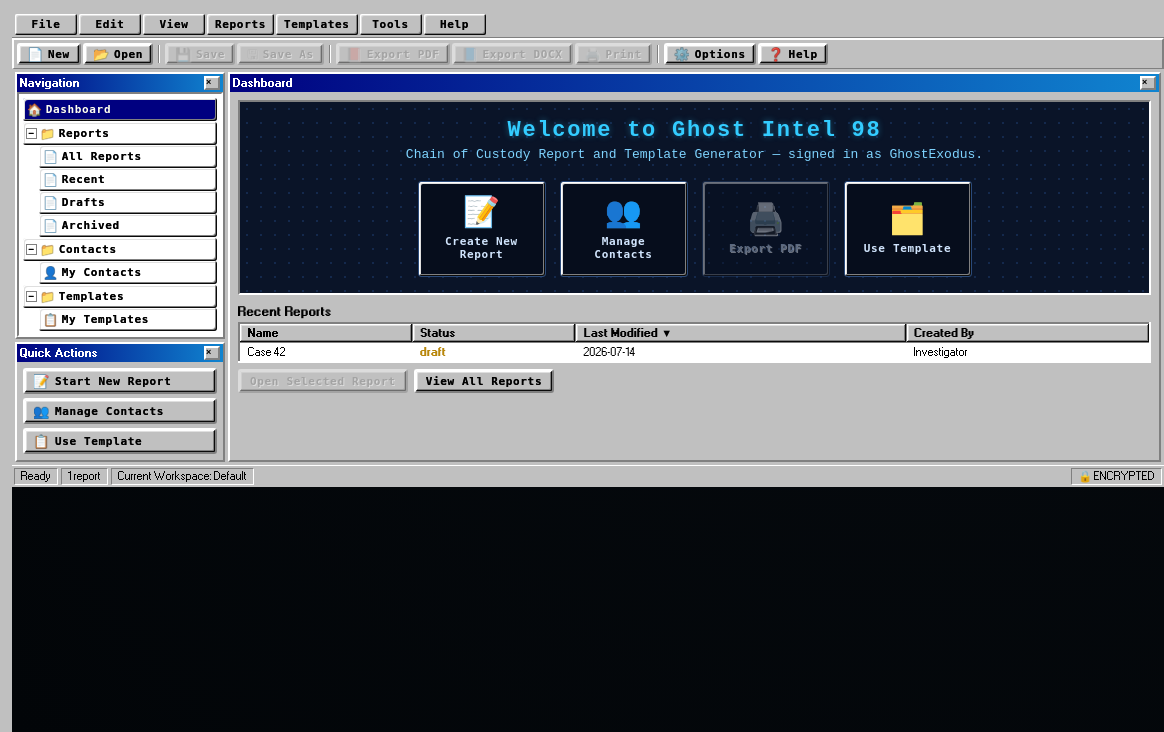
Test: ReportsModule shell (Task 6) › clears the dashboard selection when the selected report is deleted (no dead Export/Print tile)
Click the row "Case 42 draft 2026-07-14 Investigator" at x=694, y=352, box x1=239 y1=343 x2=1150 y2=362
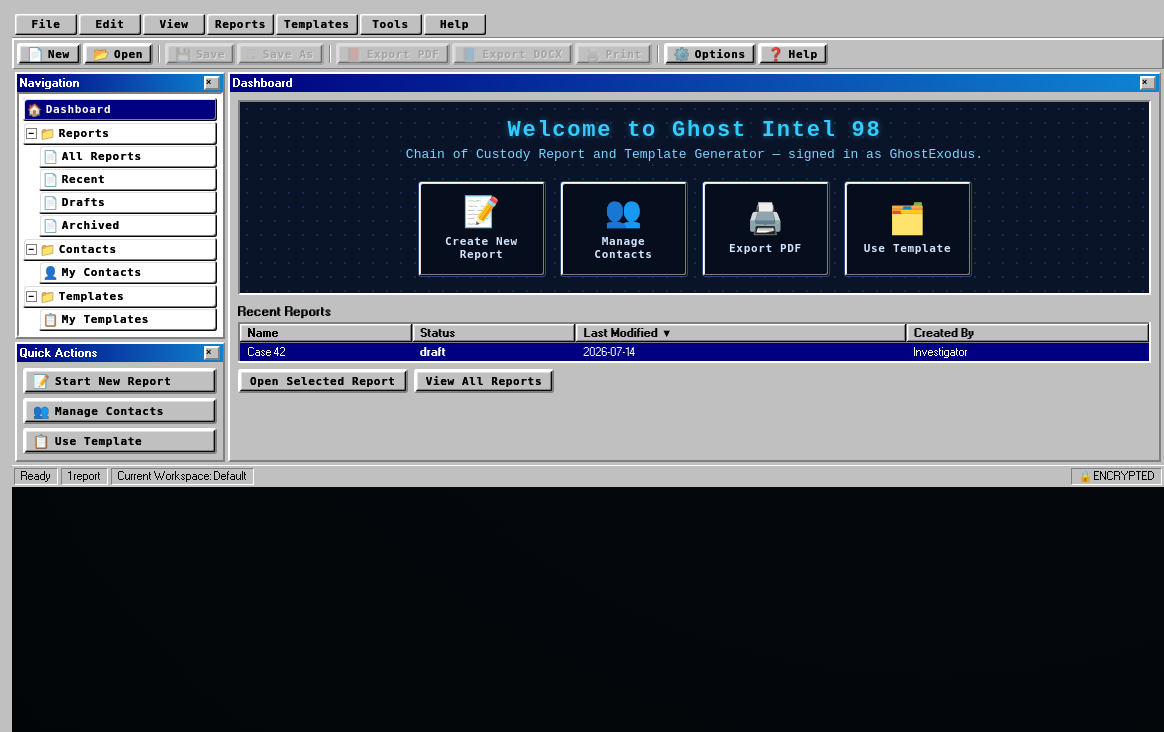
Now the button with class "ga98-report-tile" showing "🖨️ Export PDF" is enabled, box x1=702 y1=181 x2=830 y2=277
Right-click the row "Case 42 draft 2026-07-14 Investigator" at x=694, y=352, box x1=239 y1=343 x2=1150 y2=362
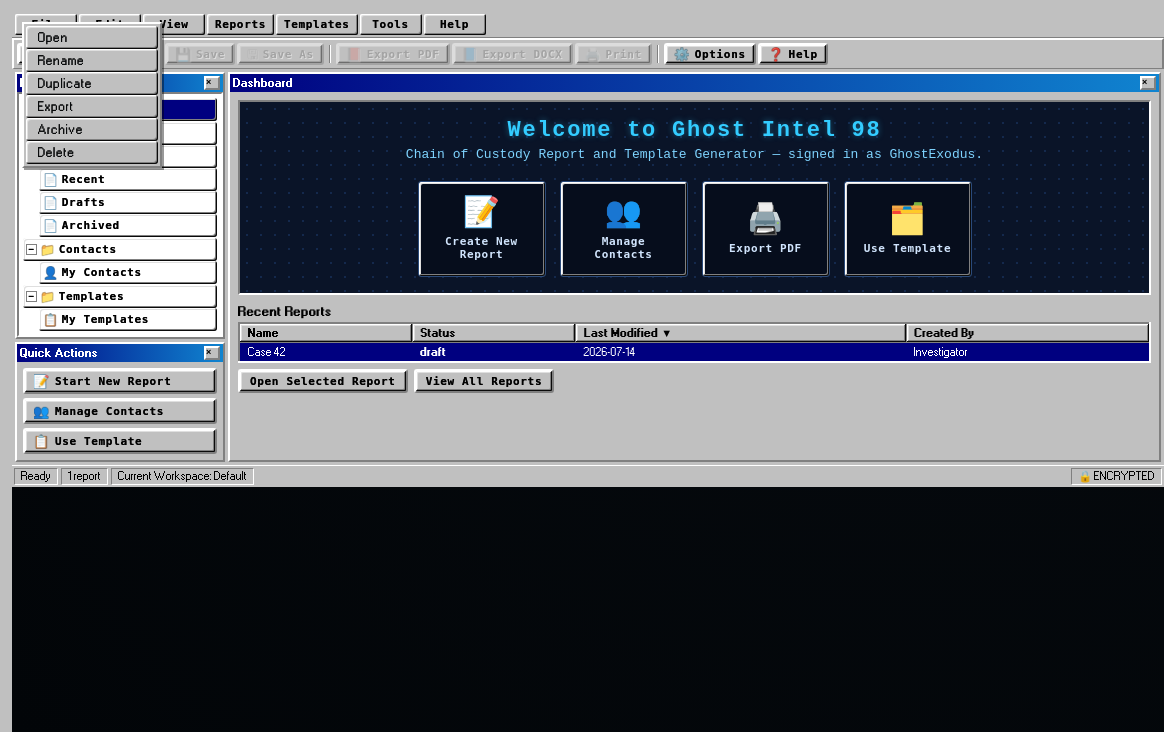
Now the button with class "ga98-context-menu-item" showing "Delete" is shown
Click the button with class "ga98-context-menu-item" showing "Delete" at x=92, y=152, box x1=26 y1=141 x2=158 y2=164
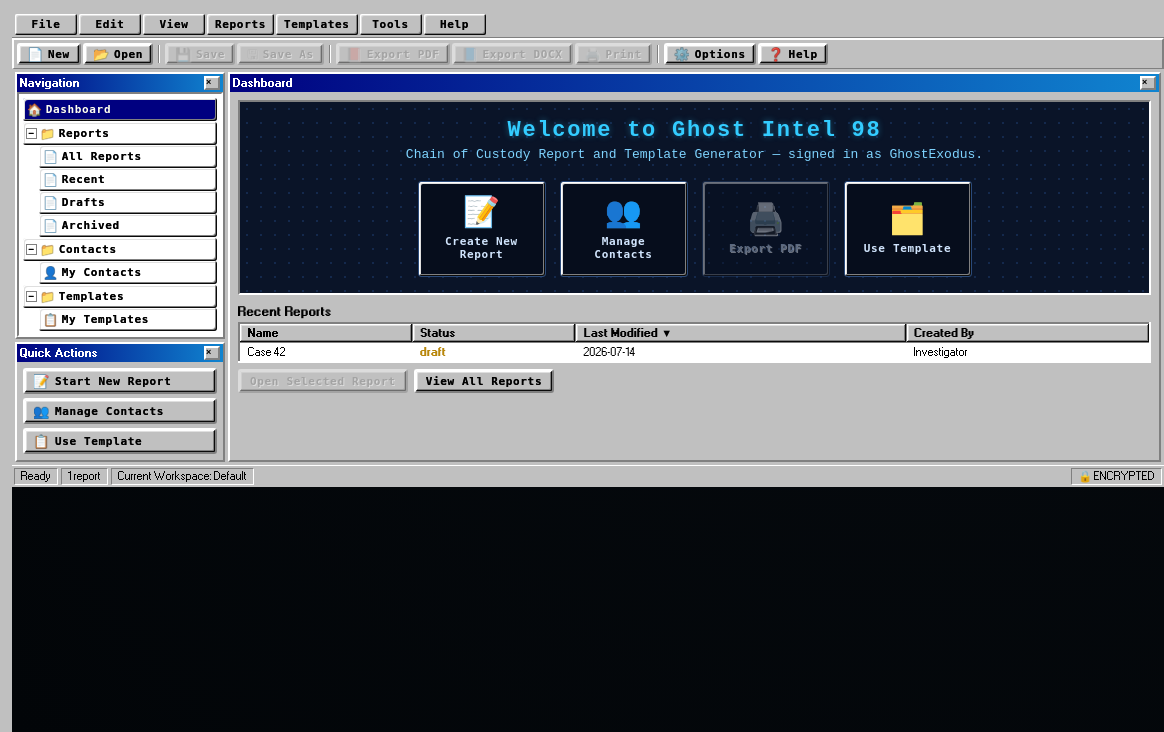
Now the button with class "ga98-report-tile" showing "🖨️ Export PDF" is disabled, box x1=702 y1=181 x2=830 y2=277
